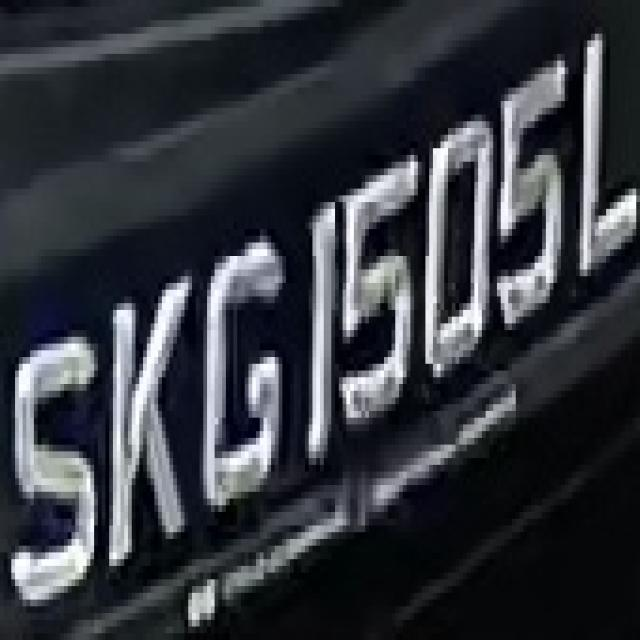0: (414, 101, 497, 384)
1: (305, 162, 343, 478)
5: (489, 61, 576, 337), (343, 162, 429, 424)
G: (195, 202, 294, 505)
K: (101, 229, 196, 559)
L: (3, 0, 4, 3)
S: (15, 296, 109, 620)
